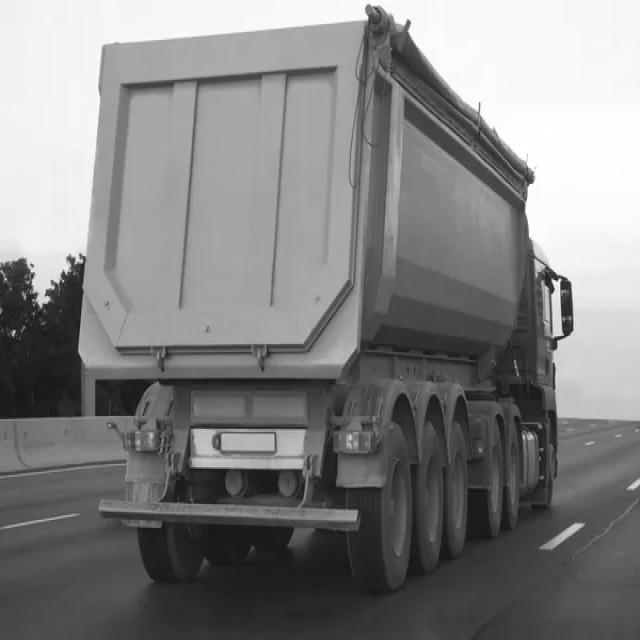Truck: (79, 6, 574, 593)
